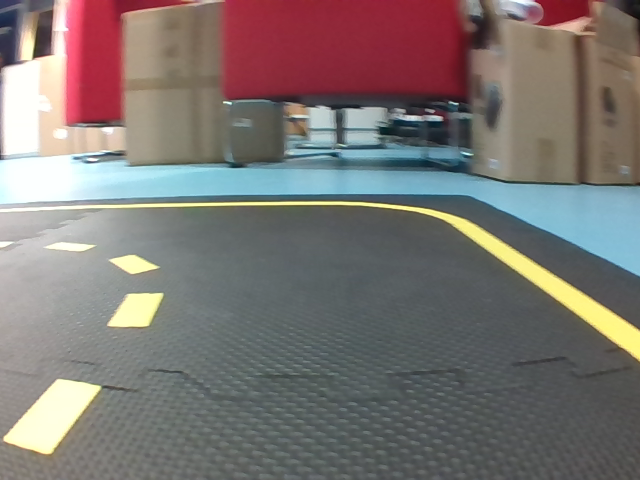no30: (2, 115, 24, 154)
